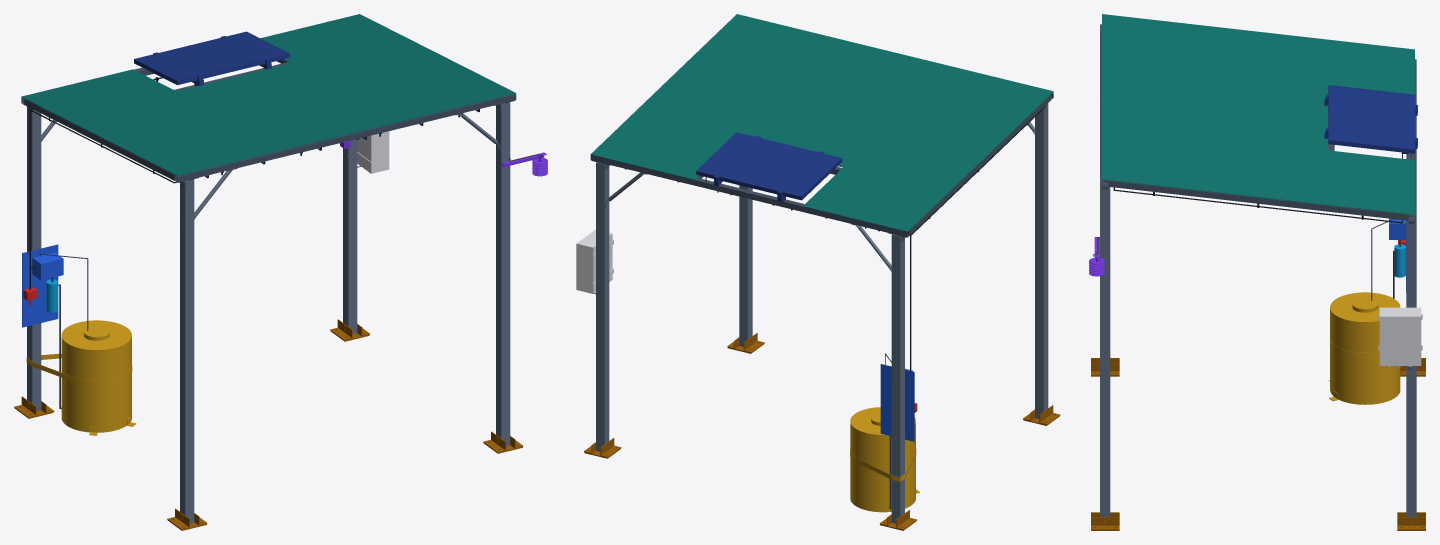
3 renders of one model, left to right at view 1: azimuth 30°, elevation 25°; view 2: azimuth 150°, elevation 25°; view 3: azimuth 270°, elevation 25°, orthographic. The views are drawn at different scales.
Visible parts, largest first — view 1: Shade fabric, knitted HDPE, Posts, 80 x 80 mm steel, with knee braces, Water tank, 120 L, strapped, Solar panel, 100 W, Roof frame, 50 x 50 mm steel, Misting pump, 12 V, Base plates, cleats and anchors, Controller and enclosure, Mist line loop and 8 nozzles; view 2: Shade fabric, knitted HDPE, Posts, 80 x 80 mm steel, with knee braces, Solar panel, 100 W, Water tank, 120 L, strapped, Roof frame, 50 x 50 mm steel, Base plates, cleats and anchors, Misting pump, 12 V, Controller and enclosure, Mist line loop and 8 nozzles; view 3: Shade fabric, knitted HDPE, Posts, 80 x 80 mm steel, with knee braces, Water tank, 120 L, strapped, Solar panel, 100 W, Controller and enclosure, Roof frame, 50 x 50 mm steel, Base plates, cleats and anchors, Mist line loop and 8 nozzles, Sensor head (T, RH, PIR), Misting pump, 12 V.
Boxes of the visible parts, bbox=[...] form: Shade fabric, knitted HDPE: bbox=[21, 14, 516, 175]; Posts, 80 x 80 mm steel, with knee braces: bbox=[27, 102, 510, 523]; Water tank, 120 L, strapped: bbox=[26, 320, 136, 435]; Solar panel, 100 W: bbox=[134, 31, 290, 86]; Roof frame, 50 x 50 mm steel: bbox=[21, 59, 516, 186]; Misting pump, 12 V: bbox=[22, 244, 63, 327]; Base plates, cleats and anchors: bbox=[14, 319, 523, 530]; Controller and enclosure: bbox=[357, 131, 389, 173]; Mist line loop and 8 nozzles: bbox=[29, 77, 479, 289]; Shade fabric, knitted HDPE: bbox=[590, 14, 1053, 231]; Posts, 80 x 80 mm steel, with knee braces: bbox=[596, 103, 1048, 523]; Solar panel, 100 W: bbox=[696, 132, 842, 201]; Water tank, 120 L, strapped: bbox=[850, 407, 919, 512]; Roof frame, 50 x 50 mm steel: bbox=[590, 92, 1053, 241]; Base plates, cleats and anchors: bbox=[584, 333, 1060, 530]; Misting pump, 12 V: bbox=[880, 364, 914, 441]; Controller and enclosure: bbox=[576, 229, 613, 293]; Mist line loop and 8 nozzles: bbox=[625, 106, 1045, 370]; Shade fabric, knitted HDPE: bbox=[1102, 14, 1414, 214]; Posts, 80 x 80 mm steel, with knee braces: bbox=[1100, 24, 1416, 522]; Water tank, 120 L, strapped: bbox=[1329, 292, 1400, 404]; Solar panel, 100 W: bbox=[1324, 85, 1417, 153]; Controller and enclosure: bbox=[1378, 307, 1422, 366]; Roof frame, 50 x 50 mm steel: bbox=[1102, 106, 1414, 223]; Base plates, cleats and anchors: bbox=[1091, 358, 1425, 530]; Mist line loop and 8 nozzles: bbox=[1113, 152, 1408, 240]; Sensor head (T, RH, PIR): bbox=[1089, 102, 1104, 276]; Misting pump, 12 V: bbox=[1389, 218, 1406, 292].
Bounding box in the file's own units: 3.28 × 2.97 × 2.58.
